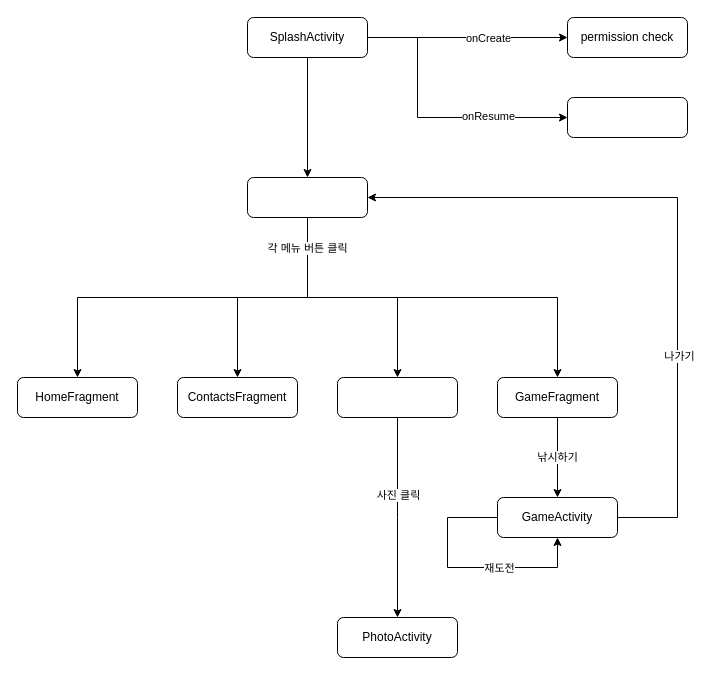
Some shapes in this 711 by 675 pixel diagram are drawn without their labels. The shapes that lost their labels are listed below. From the top down, each one's centre as x and y in pixels, then its label:
At (627,117): "playAnimation".
At (307,197): "MainActivity".
At (397,397): "PhotoFragment".
